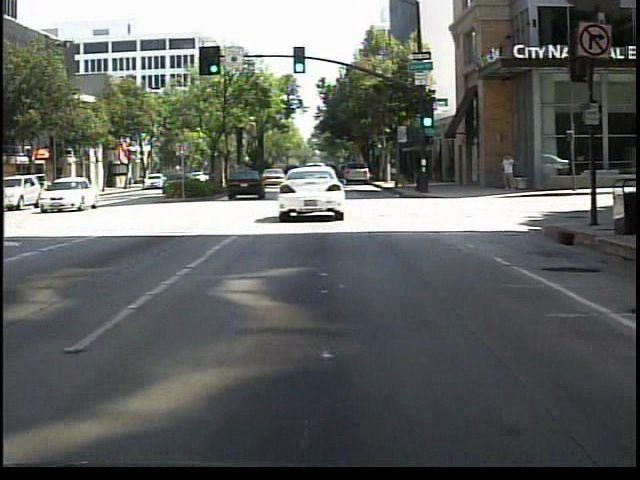person: (497, 153, 517, 196)
